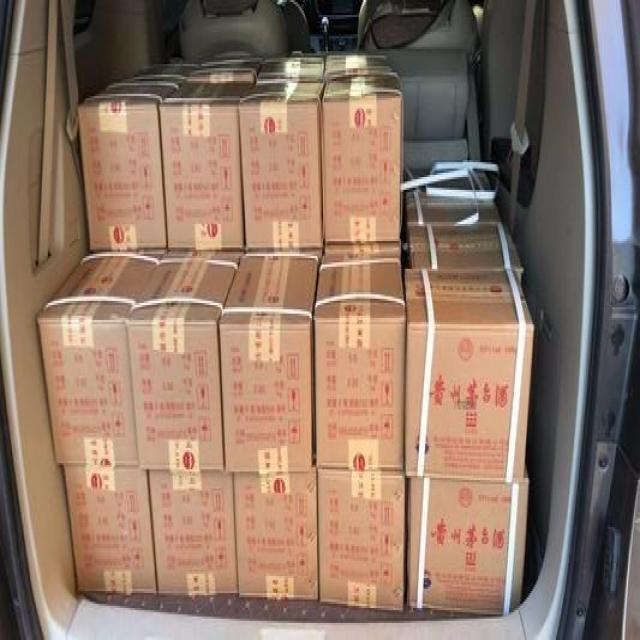box: (402, 260, 530, 482), (124, 244, 236, 472), (39, 239, 148, 470), (307, 254, 414, 472), (221, 251, 320, 474), (78, 64, 190, 253), (406, 472, 528, 627), (242, 72, 334, 252), (164, 59, 247, 253), (313, 460, 407, 620), (142, 456, 242, 602), (60, 450, 154, 604), (318, 74, 397, 248), (232, 452, 318, 608)
